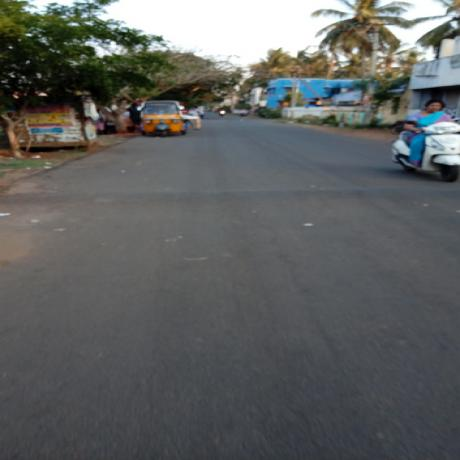Speed Bump: (4, 187, 459, 203)
